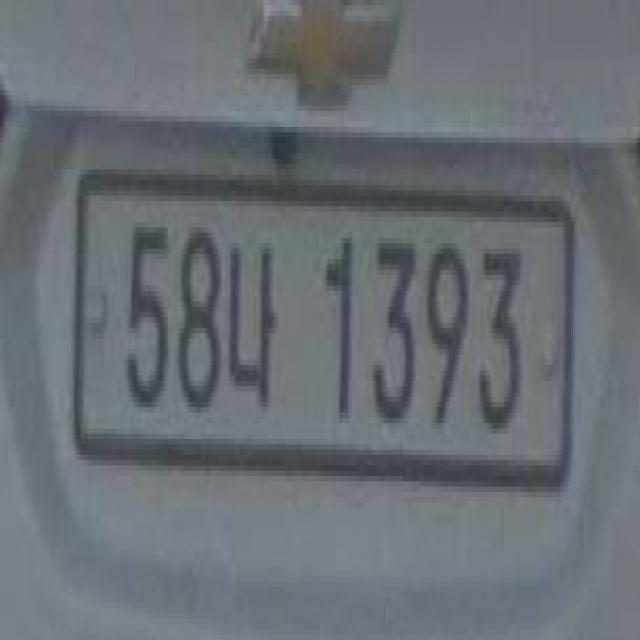1: (325, 223, 363, 428)
3: (372, 222, 419, 431), (478, 234, 524, 429)
5: (128, 213, 168, 406)
8: (174, 220, 226, 406)
9: (424, 228, 472, 428)
license_plate: (69, 152, 578, 499)
na: (230, 227, 280, 418)
